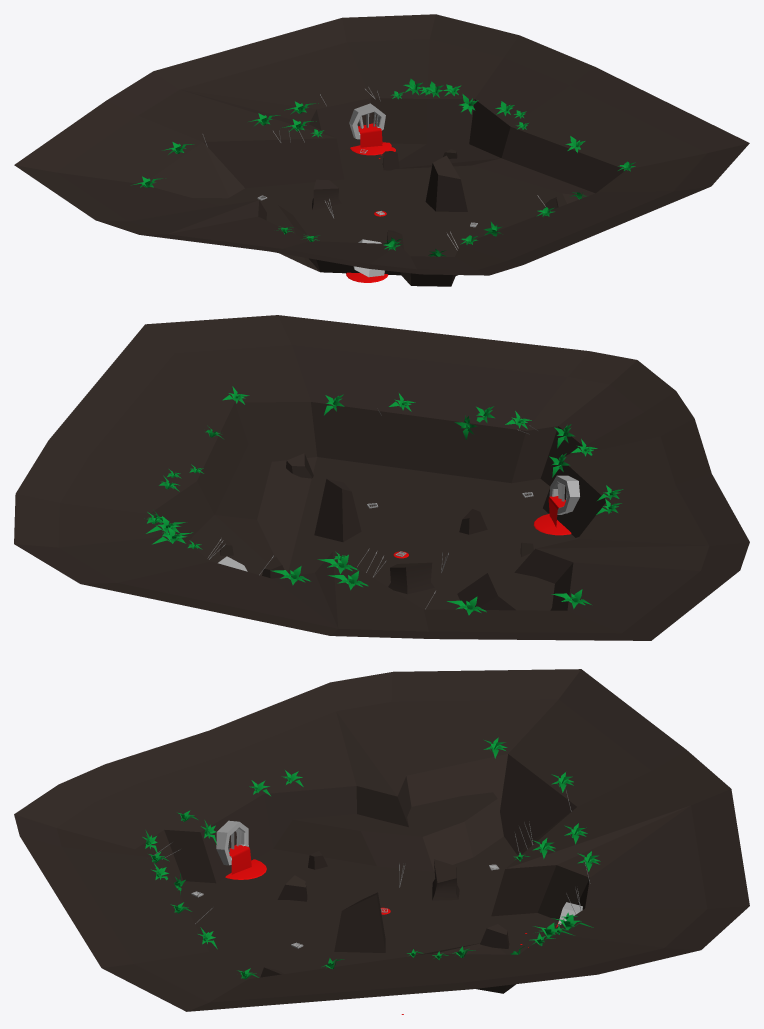
Rendered from arena_blockout_test.fbx.
3 views of the same model, one above another, from view 1: azimuth 30°, elevation 25°; view 2: azimuth 150°, elevation 25°; view 3: azimuth 270°, elevation 25° (orthographic). The views are drawn at different scales.
Parts seen in each view (by area): view 1: pPlane2, pPrism7, pPlane3; view 2: pPlane2, pPrism7; view 3: pPlane2, pPrism7.
Boxes of the visible parts, <box> form: pPlane2: <box>14,14,749,286</box>; pPrism7: <box>131,78,635,277</box>; pPlane3: <box>358,123,382,147</box>; pPlane2: <box>14,315,749,640</box>; pPrism7: <box>144,386,623,615</box>; pPlane2: <box>14,669,749,1011</box>; pPrism7: <box>142,737,600,979</box>.
Size of the model in its own units: 6596 by 1245 by 5985.
